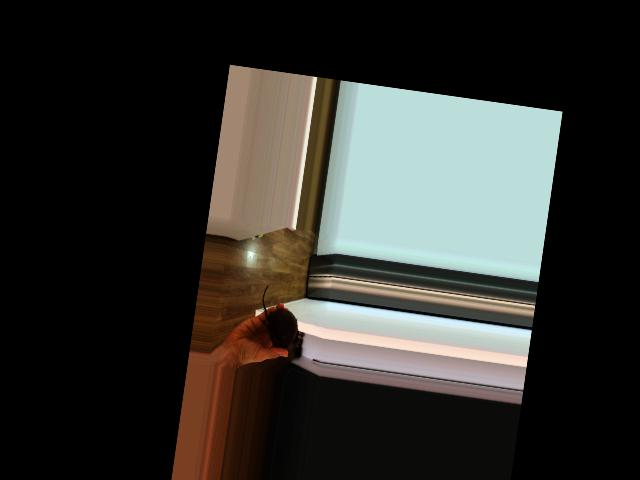beet: (256, 284, 305, 349)
